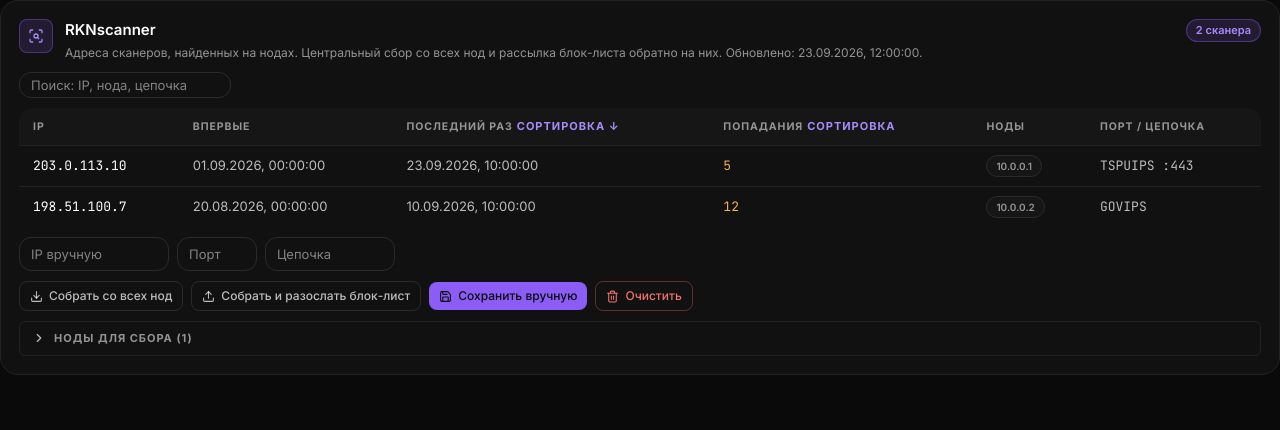
Test: RknScanners › «Сохранить вручную» adds the typed IP and posts the whole list to /save
The image size is (1280, 430).
Expected: the text "203.0.113.10" is shown, [19,146,179,187]
Type "203.0.113.99" into the field labelled "IP вручную". click: (94, 254)
box: [19,237,169,271]
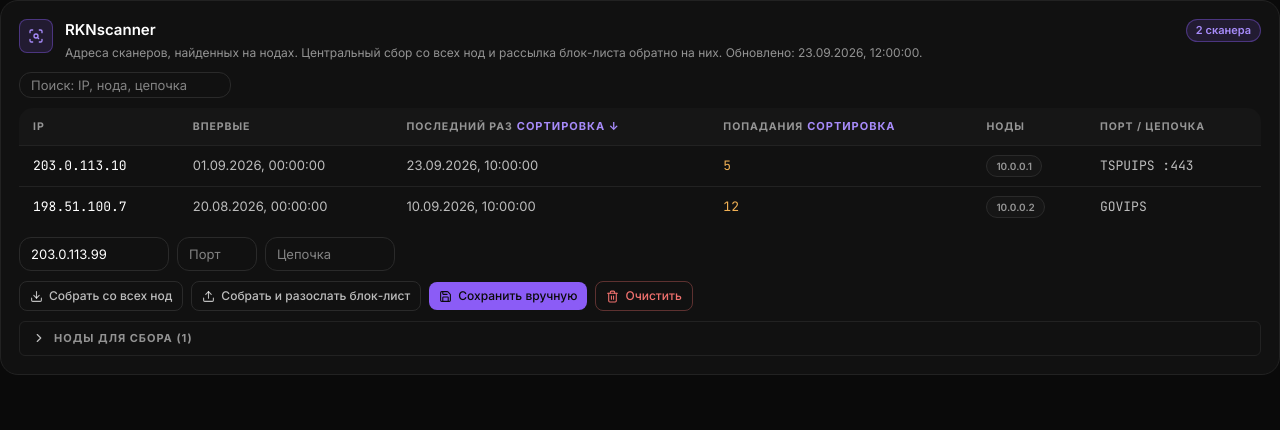
Type "8443" into the field named "Порт вручную". click: (217, 254)
box: [177,237,257,271]
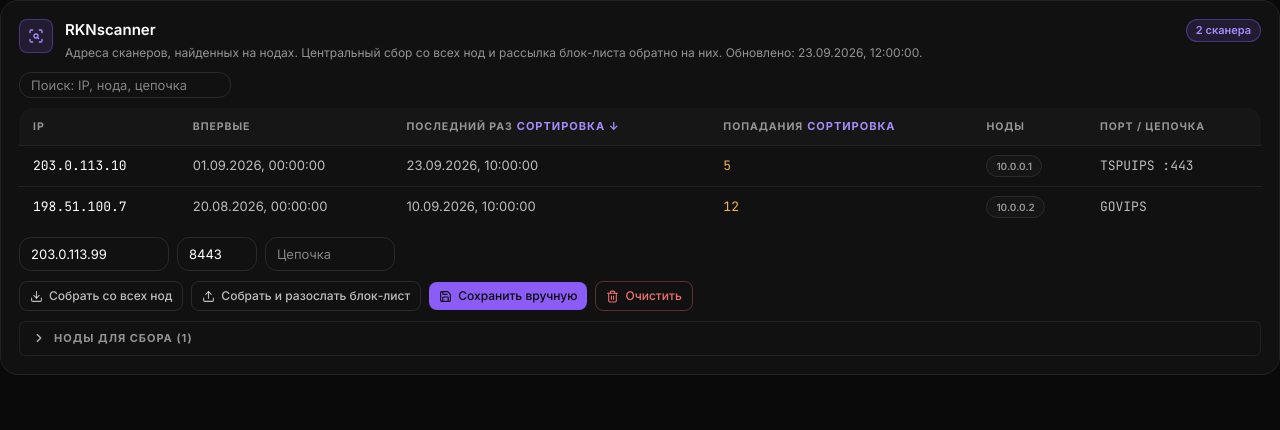
Type "EXTRA_ANTISCAN" into the field named "Цепочка вручную". click: (330, 254)
box: [265,237,395,271]
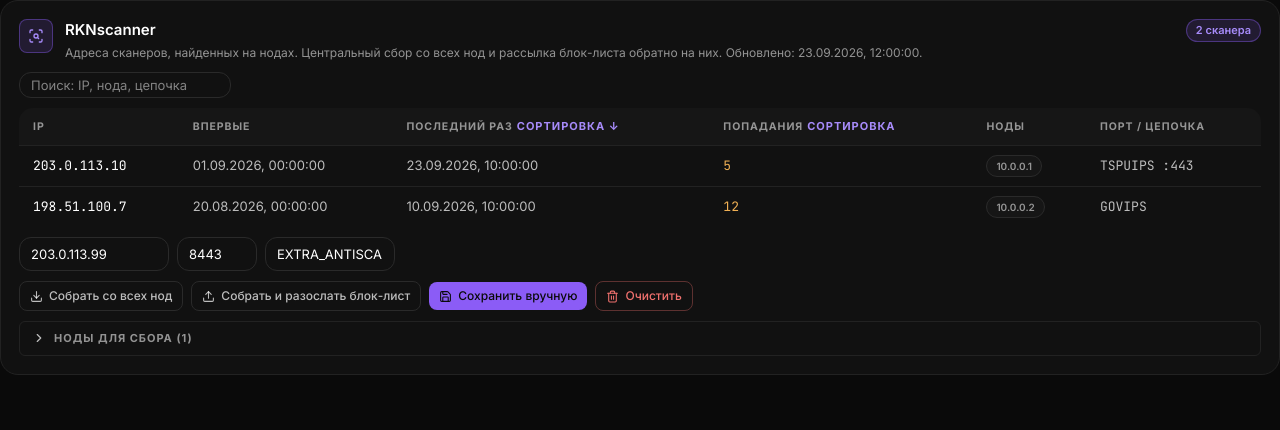
Click the button "Сохранить вручную". click: (508, 296)
box: [429,282,588,310]
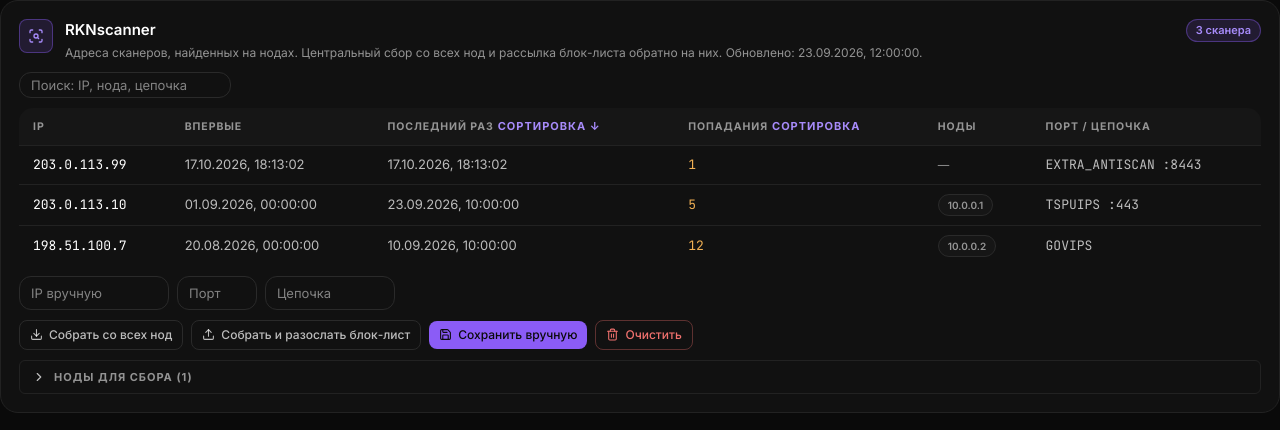
Now the text "203.0.113.99" is shown, box [19,146,171,184]
Now the field labelled "IP вручную" is empty, box [19,276,169,310]
